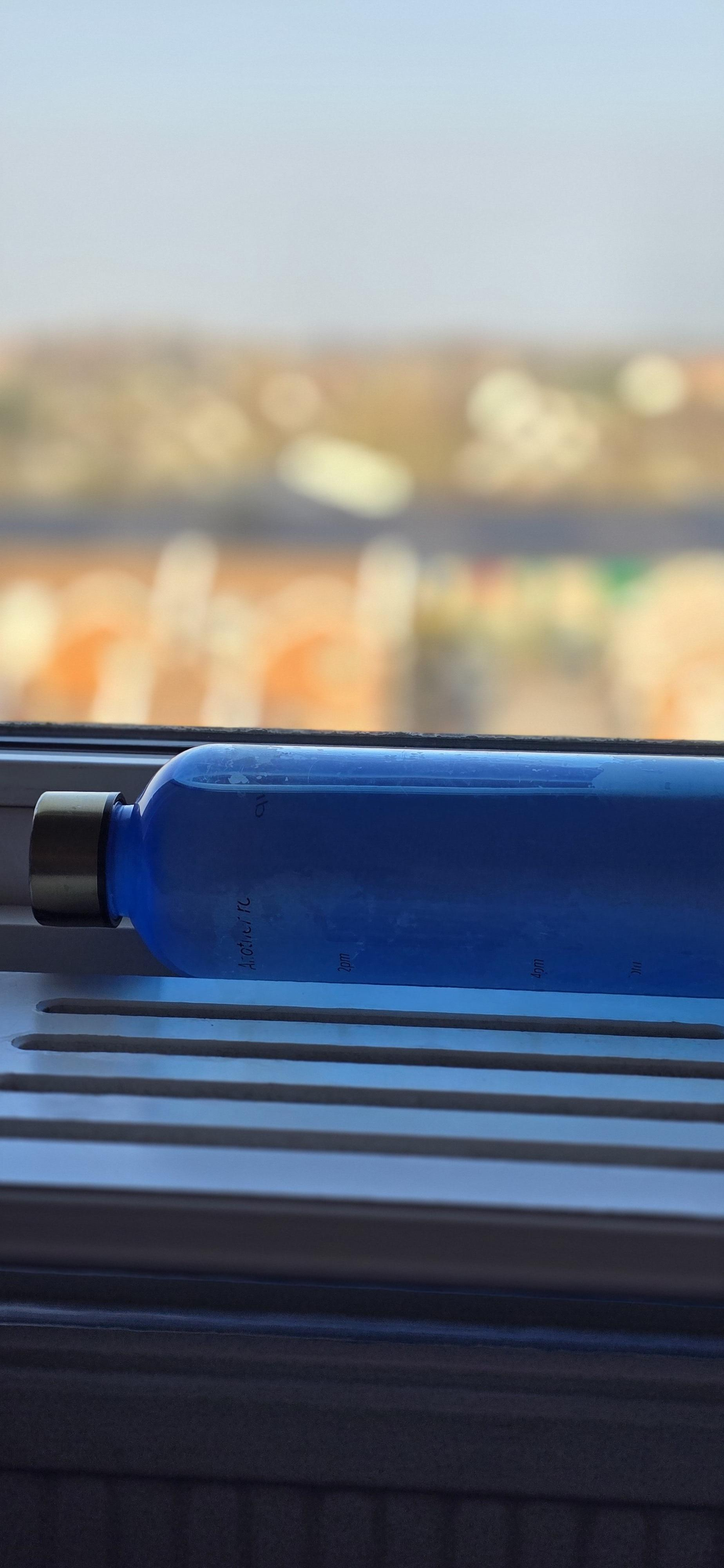bottle: (0, 632, 724, 1041)
